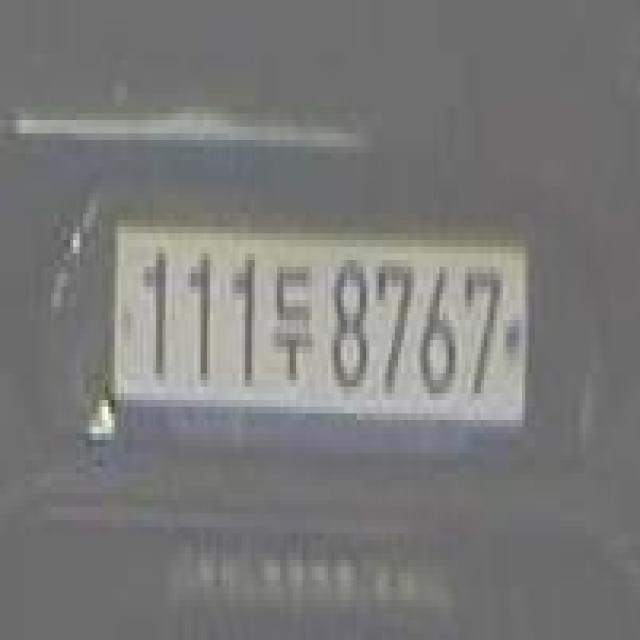illegal_plate: (105, 207, 532, 460)
